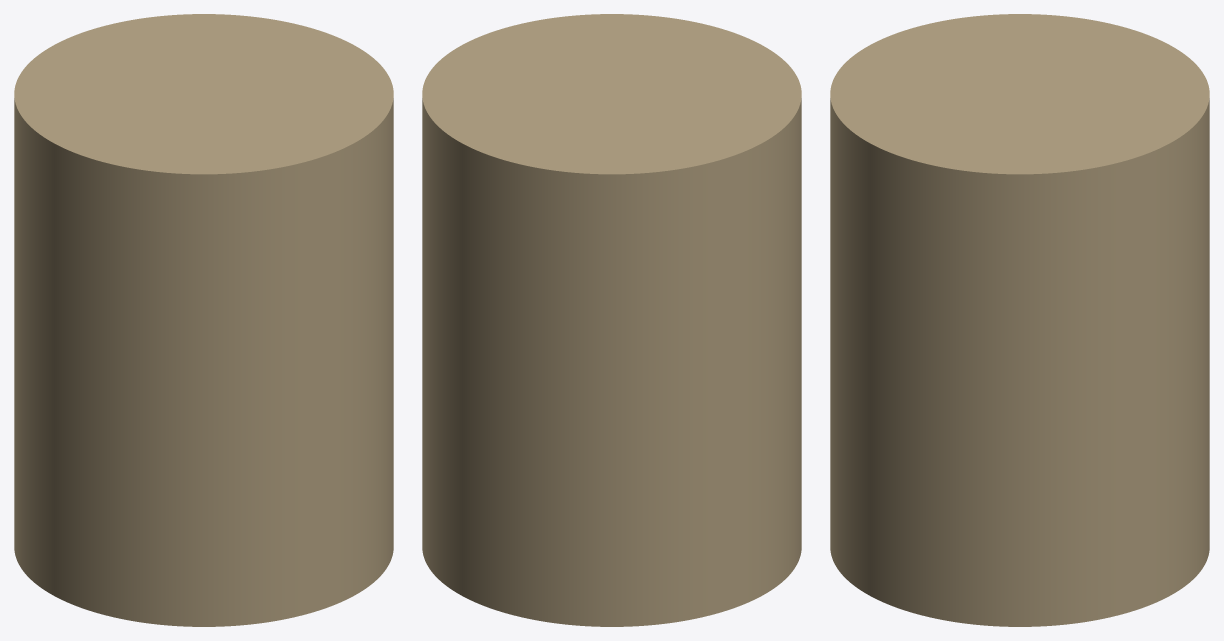
Rendered from esp2023_p15_pintle_bush.glb.
3 renders of one model, left to right at view 1: azimuth 30°, elevation 25°; view 2: azimuth 150°, elevation 25°; view 3: azimuth 270°, elevation 25°, orthographic.
Parts seen in each view (by area): view 1: pintle bush; view 2: pintle bush; view 3: pintle bush.
Part boxes in pixels (box(x1,y1,x2,y2)): pintle bush: box(14, 14, 393, 626); pintle bush: box(422, 14, 801, 626); pintle bush: box(830, 14, 1209, 626).
Bounding box in the file's own units: 190 × 250 × 190.
